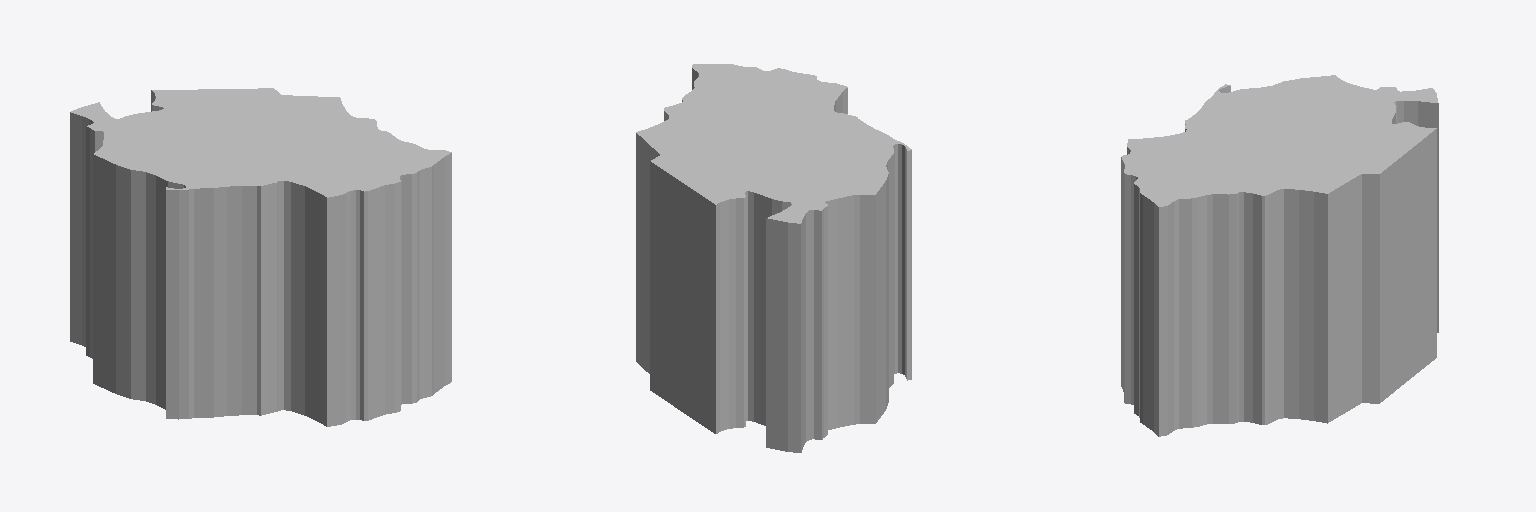
The picture shows the model from 3 angles: view 1: azimuth 30°, elevation 25°; view 2: azimuth 150°, elevation 25°; view 3: azimuth 270°, elevation 25°; orthographic projection.
Visible parts, largest first — view 1: TZ.002_CUCurve.1726; view 2: TZ.002_CUCurve.1726; view 3: TZ.002_CUCurve.1726.
Boxes of the visible parts, x1,y1,x2,y2 form: TZ.002_CUCurve.1726: [70, 88, 451, 426]; TZ.002_CUCurve.1726: [636, 64, 911, 452]; TZ.002_CUCurve.1726: [1121, 75, 1438, 436].
Size of the model in its own units: 0.0618 by 0.05 by 0.0626.